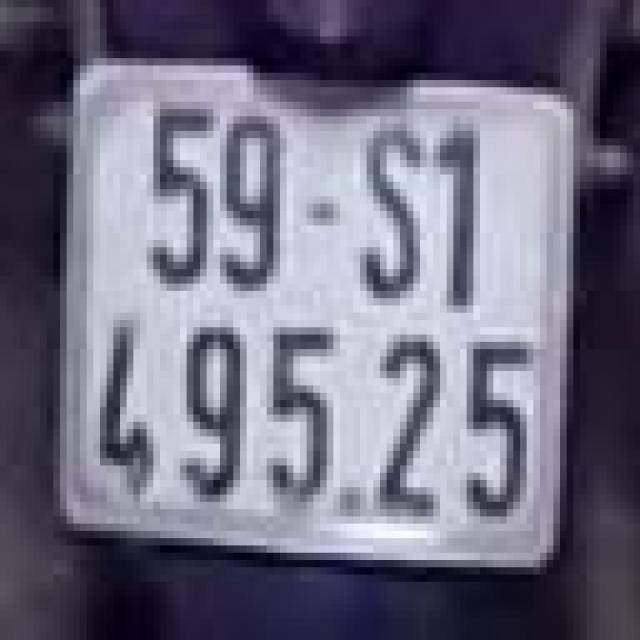1: (424, 95, 504, 320)
2: (367, 327, 453, 538)
4: (93, 298, 180, 538)
5: (453, 320, 540, 531), (263, 309, 337, 520), (147, 94, 220, 306)
9: (176, 306, 256, 509), (220, 91, 293, 294)
S: (353, 94, 427, 306)
